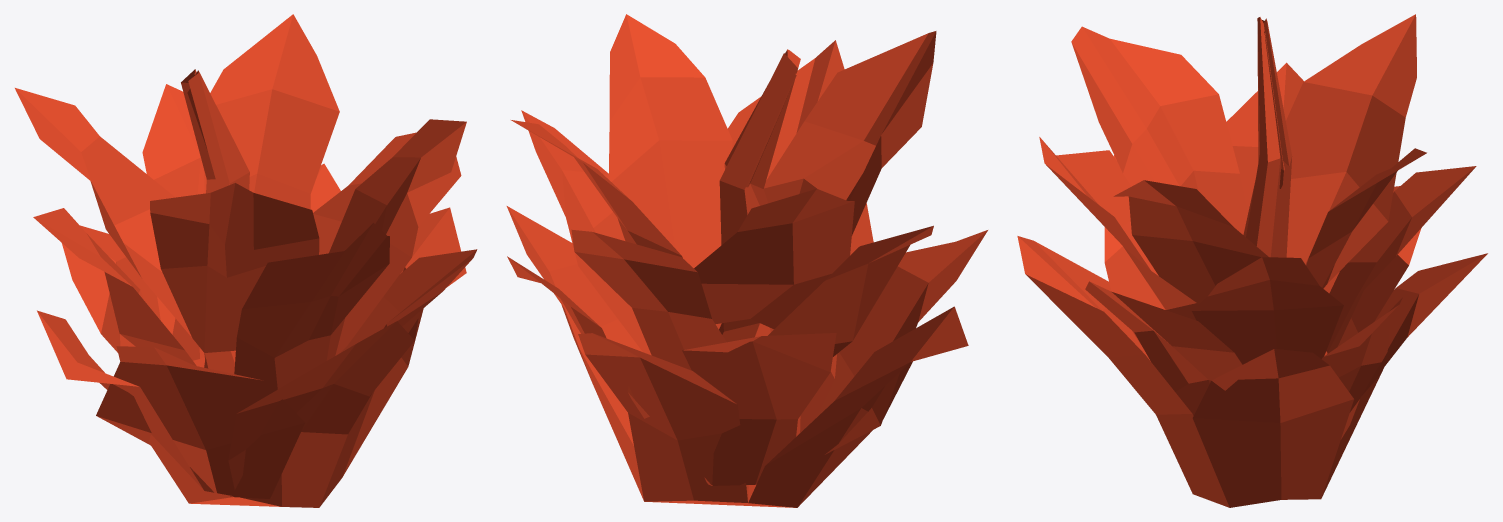
The model's file is Natures2p2-orange.fbx.
The picture shows the model from 3 angles, left to right: view 1: azimuth 30°, elevation 25°; view 2: azimuth 150°, elevation 25°; view 3: azimuth 270°, elevation 25°; orthographic projection. The views are drawn at different scales.
Visible parts, largest first — view 1: p2-orange; view 2: p2-orange; view 3: p2-orange.
Part boxes in pixels (x1,y1,x2,y2): p2-orange: (15,14,477,507); p2-orange: (506,14,987,507); p2-orange: (1017,14,1487,507).
Size of the model in its own units: 390 by 387 by 380.
